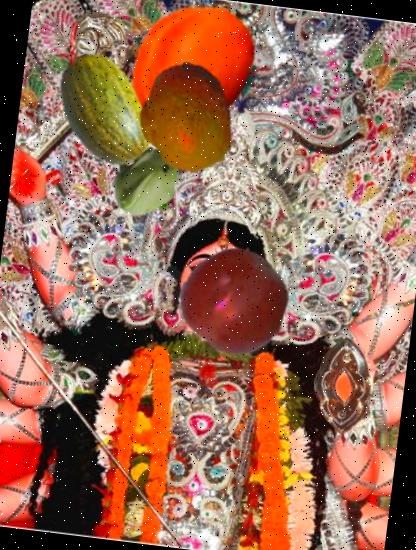Apricot: (116, 0, 269, 145)
Cherry: (174, 240, 295, 362)
Kohlrabi: (104, 138, 191, 226)
Mandarine: (122, 56, 247, 180)
Melon: (35, 45, 169, 179)
